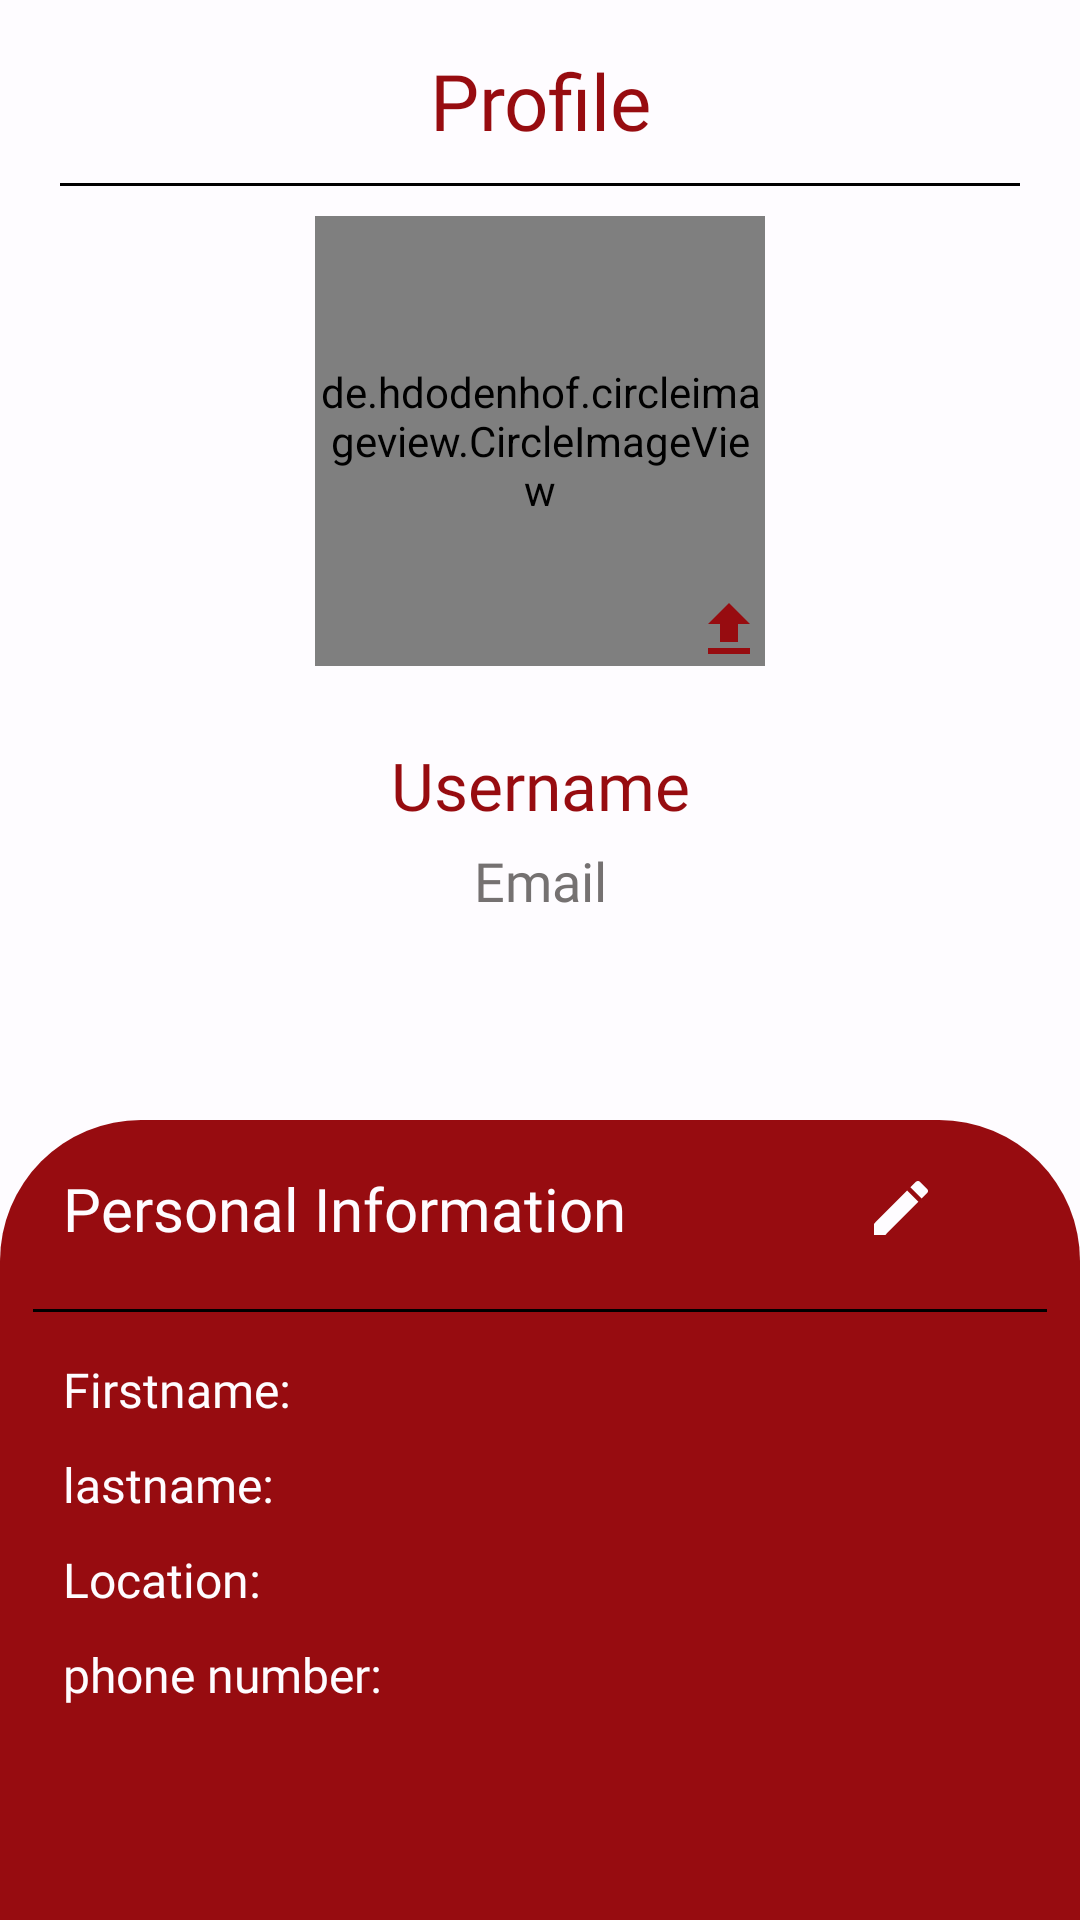

Named icons in this screenshot (1080×1920) and their bounding boxes, (x1, y1, x2, y2):
edit: (874, 1181, 928, 1235)
file upload: (708, 603, 750, 654)
